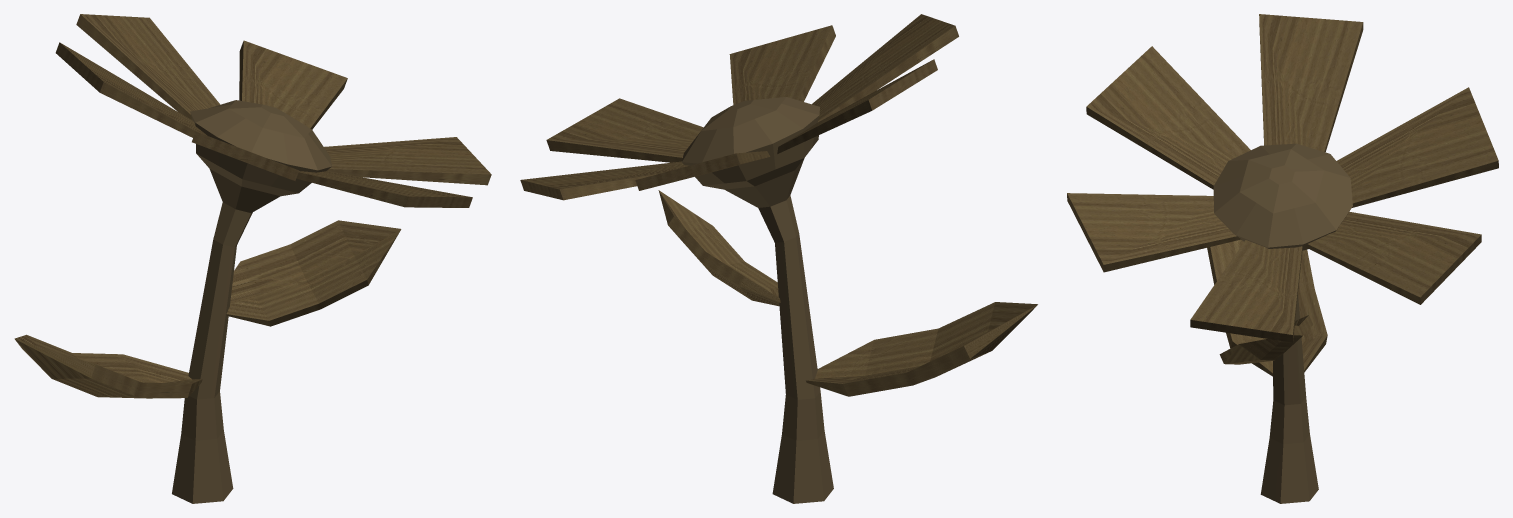
Rendered from cvetok.fbx.
3 renders of one model, left to right at view 1: azimuth 30°, elevation 25°; view 2: azimuth 150°, elevation 25°; view 3: azimuth 270°, elevation 25°, orthographic. The views are drawn at different scales.
Parts seen in each view (by area): view 1: cvetok_1.008; view 2: cvetok_1.008; view 3: cvetok_1.008.
Part boxes in pixels (x1,y1,x2,y2): cvetok_1.008: [14, 14, 491, 503]; cvetok_1.008: [520, 14, 1037, 503]; cvetok_1.008: [1067, 14, 1498, 503].
Bounding box in the file's own units: 688 × 631 × 581.
Materials: 1 (1 with a texture image).
